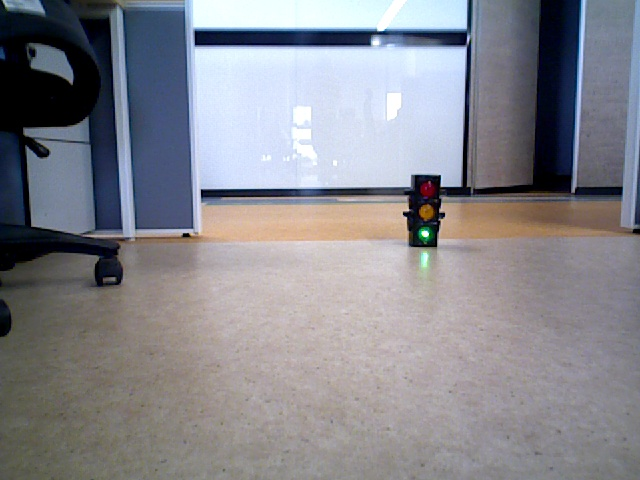green: (409, 174, 439, 244)
